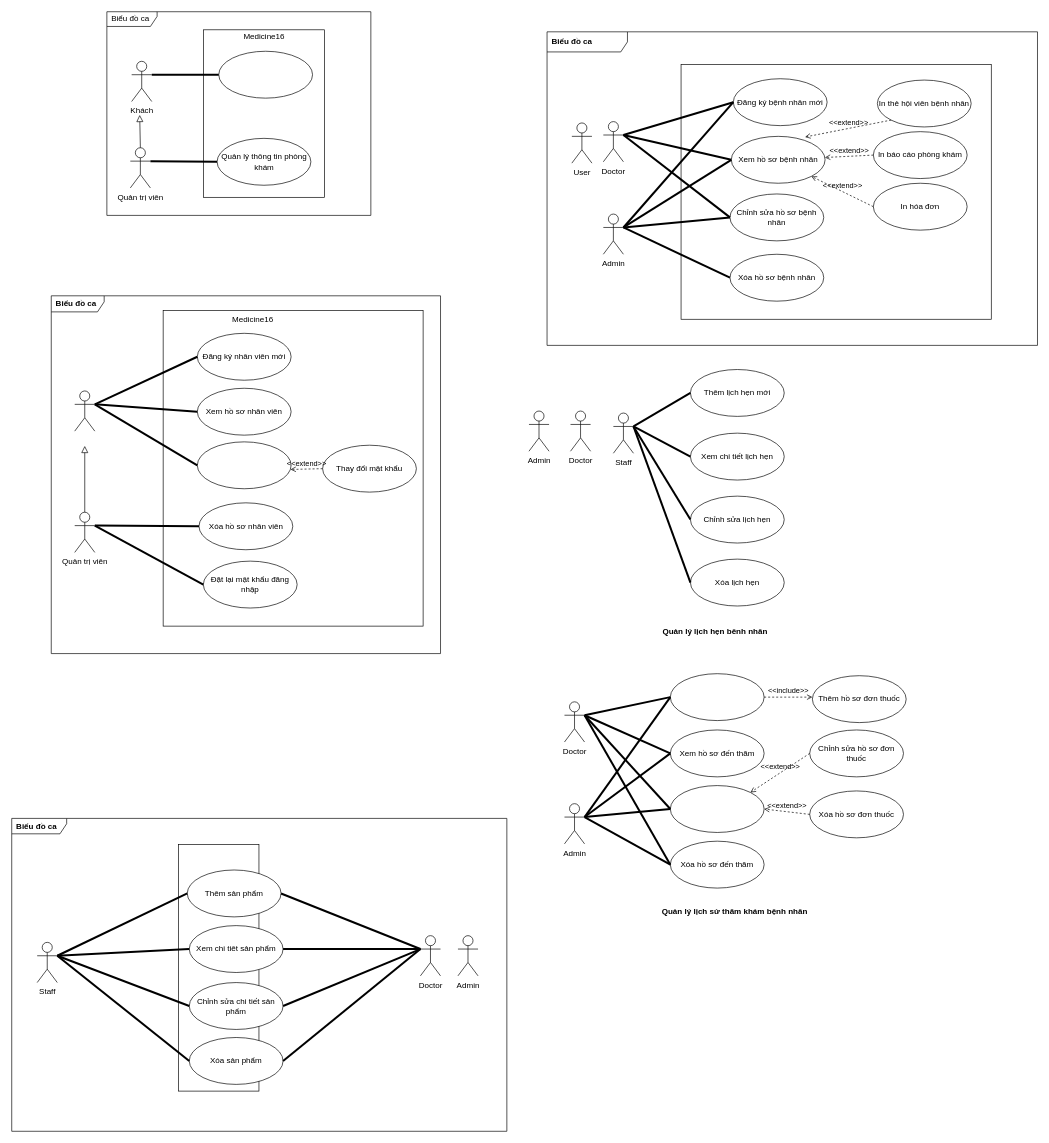
Some shapes in this 1049 by 1143 pixel diagram are drawn without their labels. Here are the shapes that lost their labels. From the top down, the centre of each, then its label:
the point at 265,74: Xem thông tin phòng khám
the point at 84,410: Nhân viên
the point at 244,465: Chỉnh sửa hồ sơ nhân viên
the point at 717,697: Thêm hồ sơ đến thăm
the point at 717,808: Chỉnh sửa hồ sơ đến thăm
